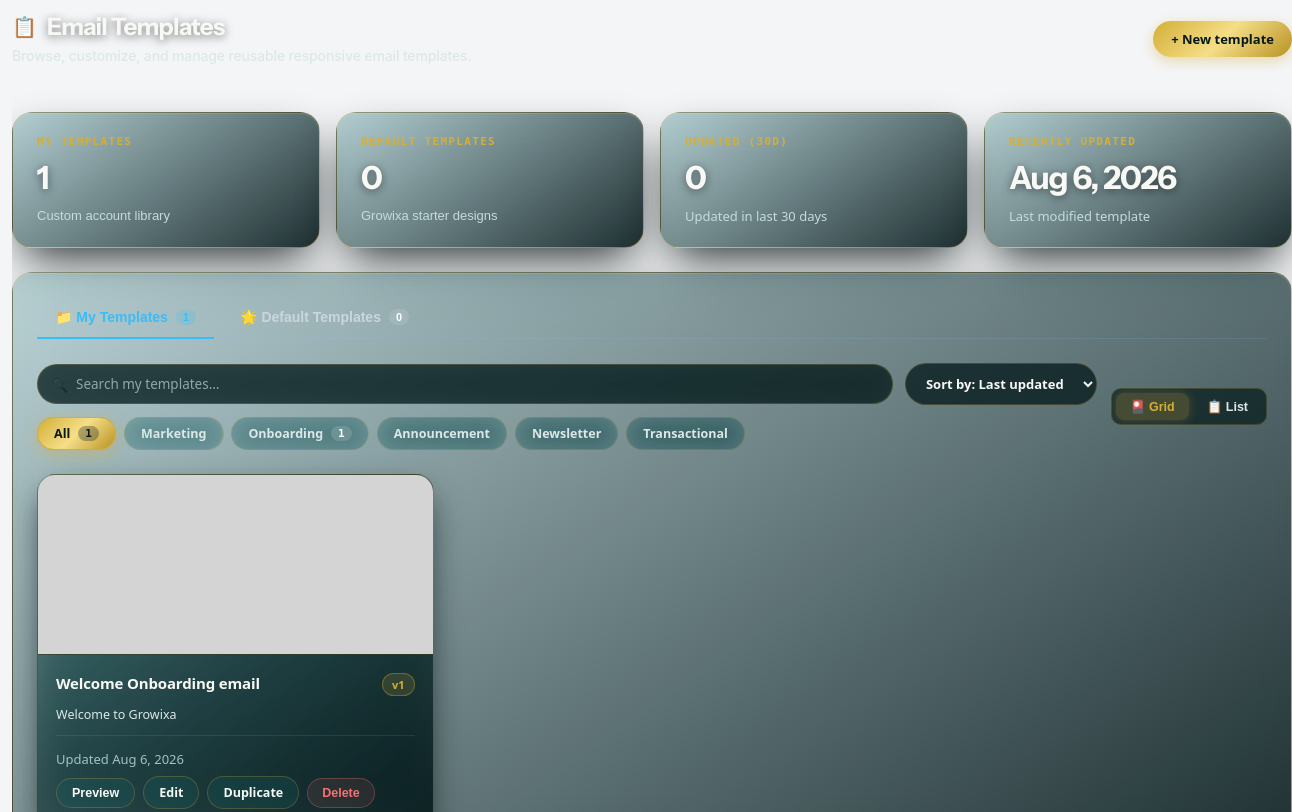
TemplatesPage › shows the backend's detail when deletion is blocked (e.g. in use by a campaign)
Expected: the heading "Welcome Onboarding email" is shown, [56,673,260,693]
Click the button "Delete": point(341, 793) [307,778,375,808]
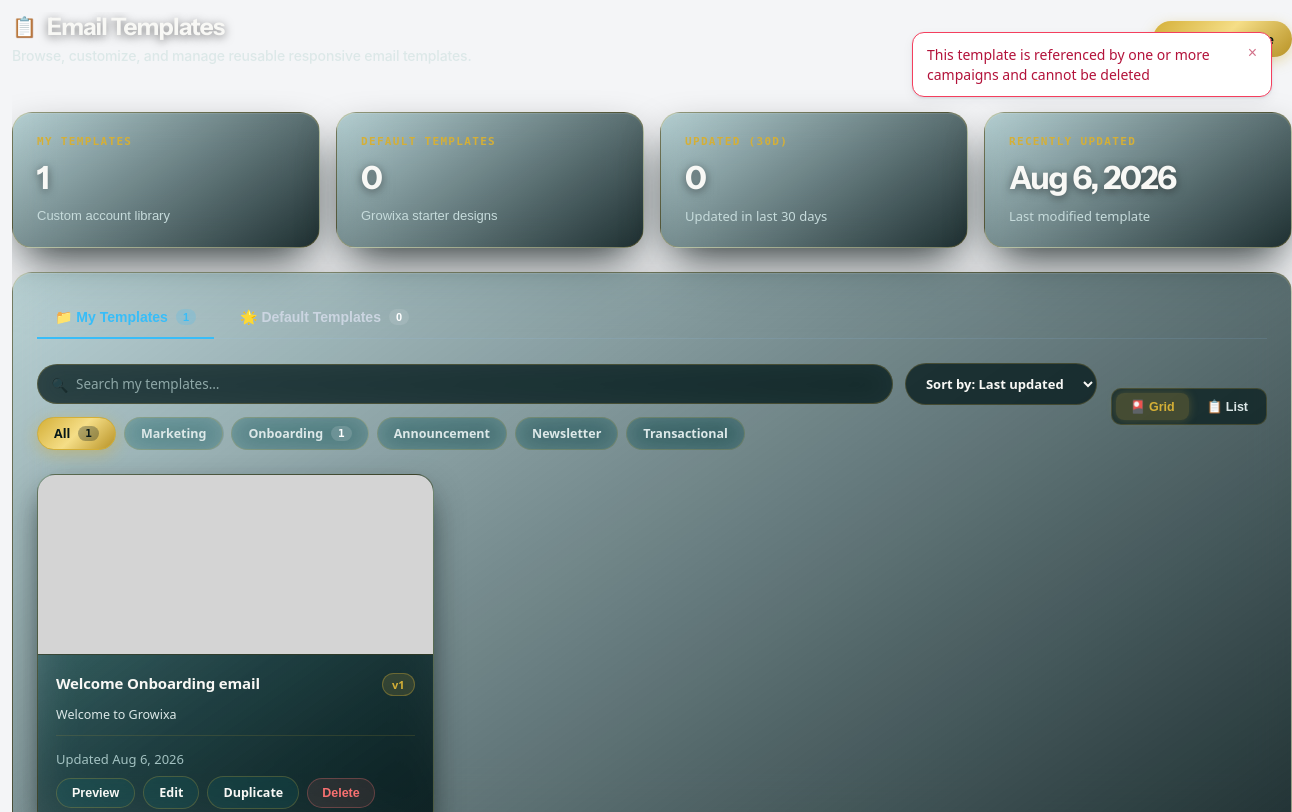
Expected: the heading "Welcome Onboarding email" is shown, [56,673,260,693]
Expected: the text "This template is referenced by one or more campaigns and cannot be deleted" is shown, [927,45,1236,84]
